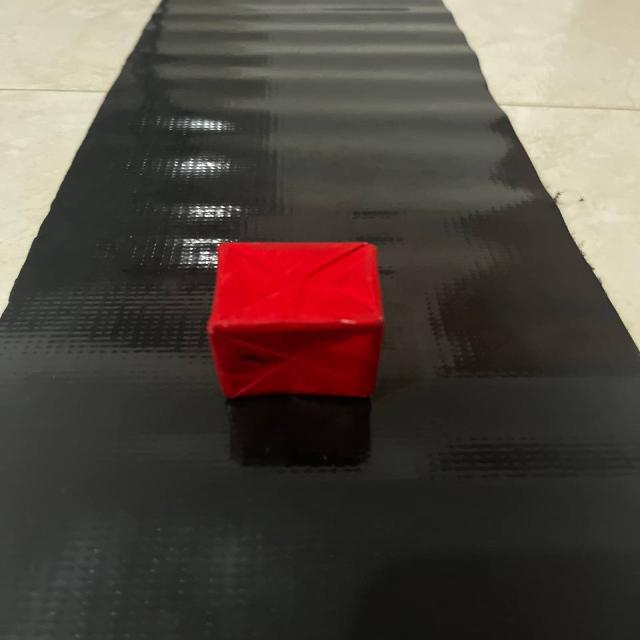Rojo: (188, 225, 405, 406)
